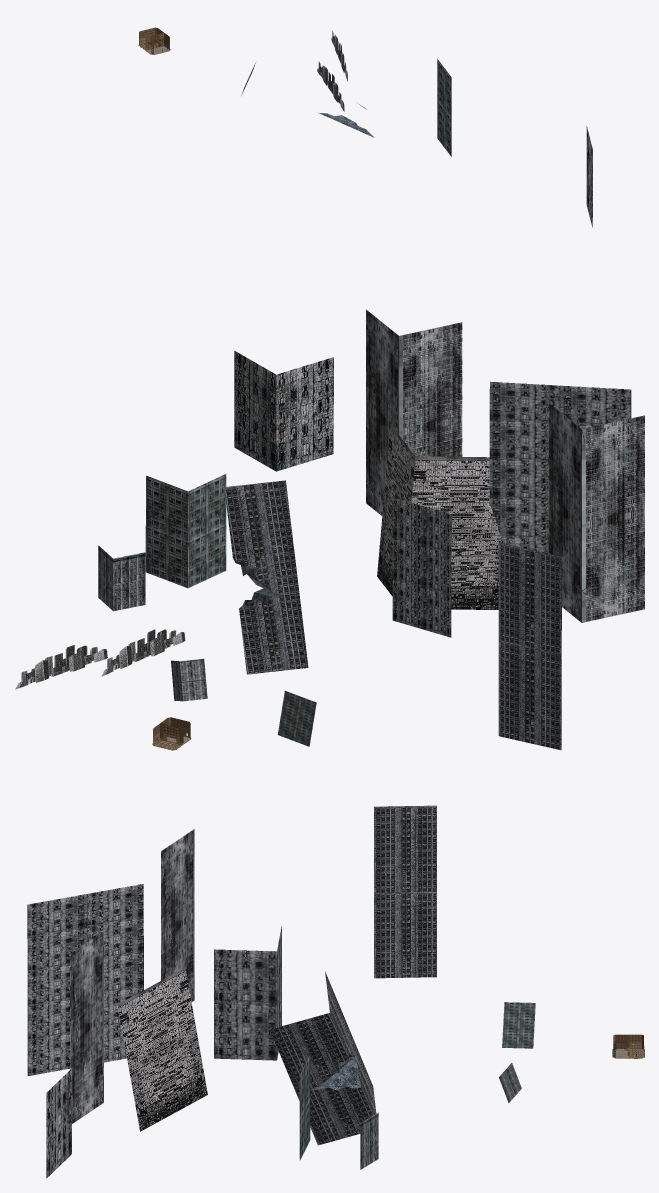
File: BloodyPrison.glb
3 renders of one model, top to bottom at view 1: azimuth 30°, elevation 25°; view 2: azimuth 150°, elevation 25°; view 3: azimuth 270°, elevation 25°, orthographic. The views are drawn at different scales.
Parts seen in each view (by area): view 1: object_47, object_32, object_45; view 2: object_46, object_43, object_48, object_44, object_34, object_45, object_47, object_32, object_36, object_37, object_38; view 3: object_49, object_34, object_46, object_44, object_42, object_33, object_45, object_37, object_47, object_36, object_35.
Boxes of the visible parts, left/top/right/bottom form: object_47: left=437, top=59, right=451, bottom=156; object_32: left=317, top=31, right=347, bottom=111; object_45: left=586, top=126, right=592, bottom=227; object_46: left=366, top=309, right=644, bottom=622; object_43: left=392, top=381, right=631, bottom=637; object_48: left=498, top=542, right=561, bottom=750; object_44: left=377, top=424, right=502, bottom=609; object_34: left=224, top=480, right=308, bottom=674; object_45: left=234, top=350, right=333, bottom=471; object_47: left=145, top=474, right=226, bottom=588; object_32: left=15, top=629, right=185, bottom=689; object_36: left=98, top=545, right=145, bottom=611; object_37: left=277, top=690, right=316, bottom=746; object_38: left=171, top=658, right=207, bottom=701; object_49: left=27, top=884, right=143, bottom=1075; object_34: left=325, top=805, right=436, bottom=1115; object_46: left=70, top=829, right=194, bottom=1123; object_44: left=117, top=967, right=207, bottom=1131; object_42: left=214, top=949, right=276, bottom=1060; object_33: left=270, top=1013, right=372, bottom=1145; object_45: left=46, top=1069, right=71, bottom=1178; object_37: left=502, top=1002, right=535, bottom=1048; object_47: left=299, top=1055, right=310, bottom=1160; object_36: left=360, top=1112, right=378, bottom=1169; object_35: left=311, top=1048, right=360, bottom=1090.
Size of what is drawn, in the model's own units: 532 by 228 by 600.
25 materials, 25 textured.
